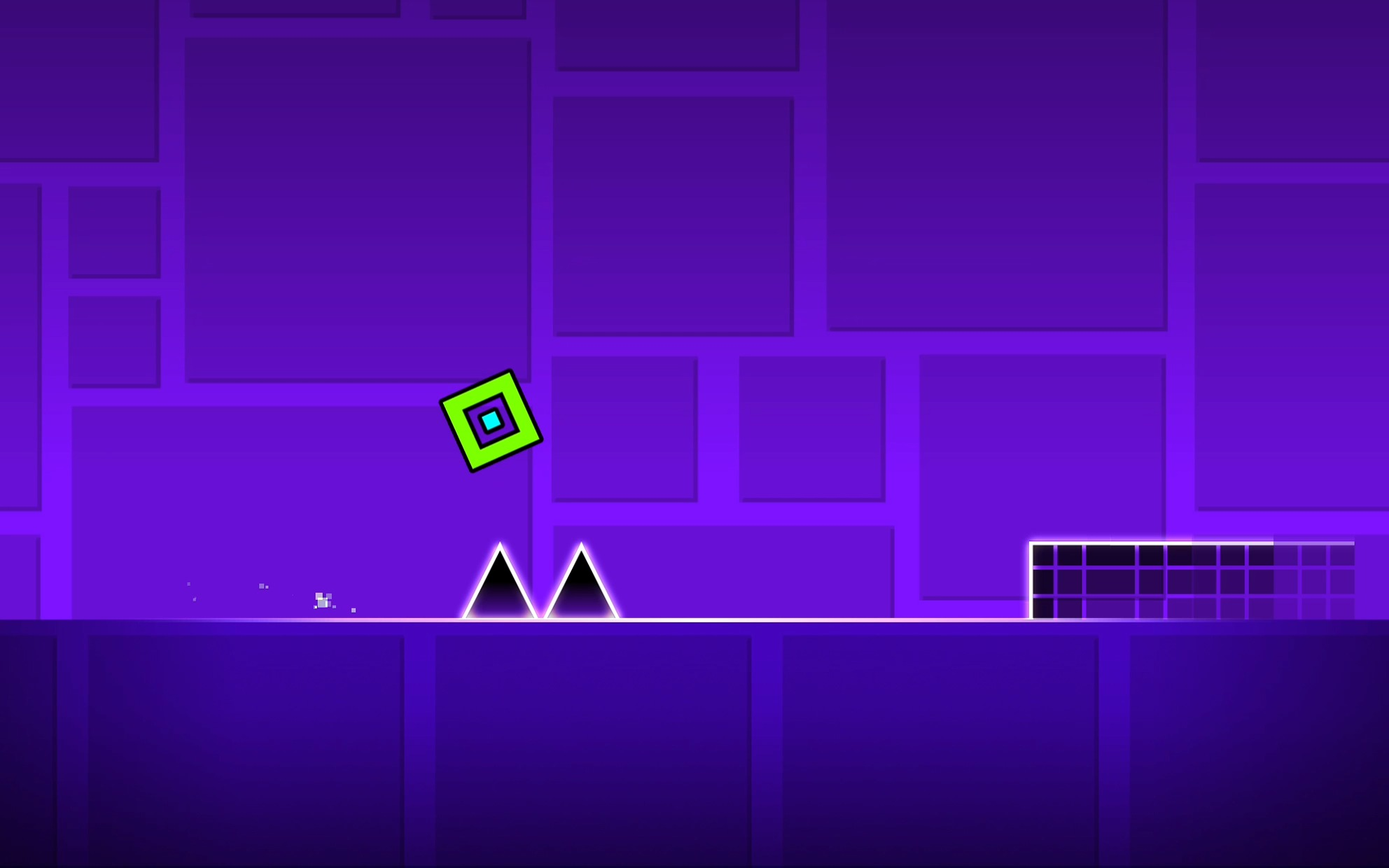Block2: (1025, 536, 1385, 623)
Player: (440, 369, 542, 472)
Spike: (545, 543, 620, 619), (462, 544, 537, 619)
